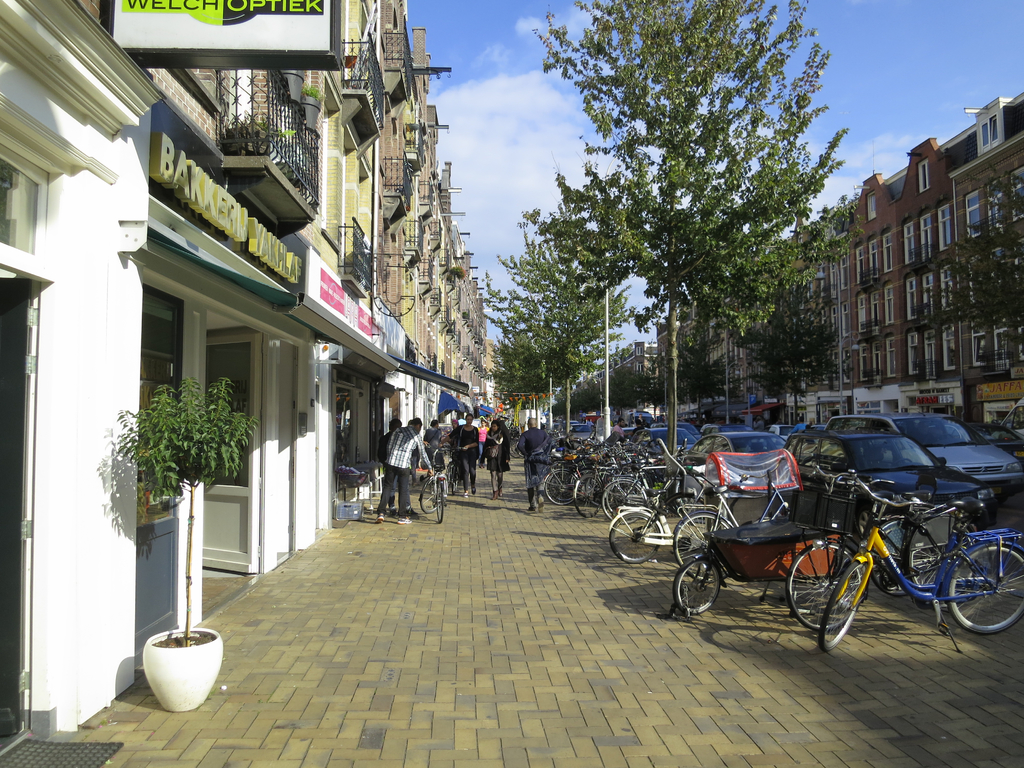Tree: (504, 23, 848, 471), (481, 236, 641, 423), (936, 172, 1023, 362), (737, 286, 840, 425), (552, 364, 654, 426), (673, 336, 728, 430)
